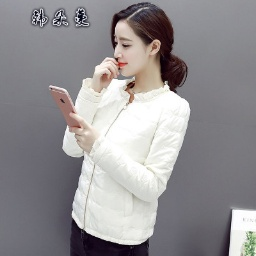face: (106, 3, 186, 85)
